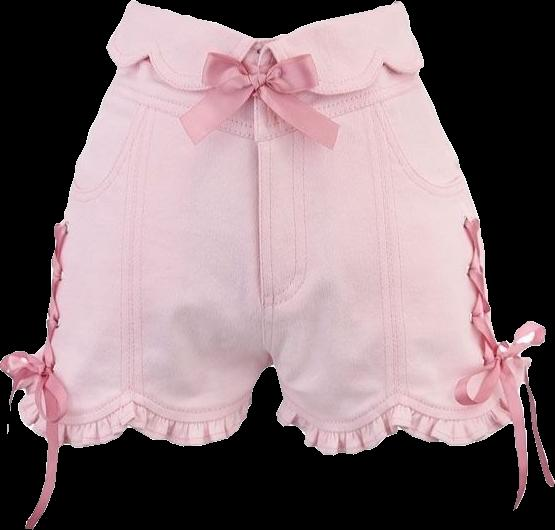Hemline: (16, 398, 254, 449), (273, 412, 510, 454), (265, 42, 425, 94), (105, 42, 260, 87)
Pantleg: (254, 1, 513, 454), (18, 0, 272, 447)
Waistline: (110, 76, 424, 132), (128, 0, 400, 42), (30, 380, 251, 425), (281, 387, 507, 430)
